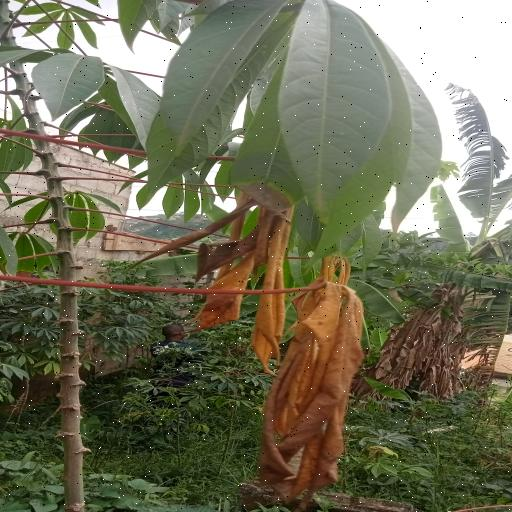Cassava_Root_Rot: (254, 282, 366, 506)
